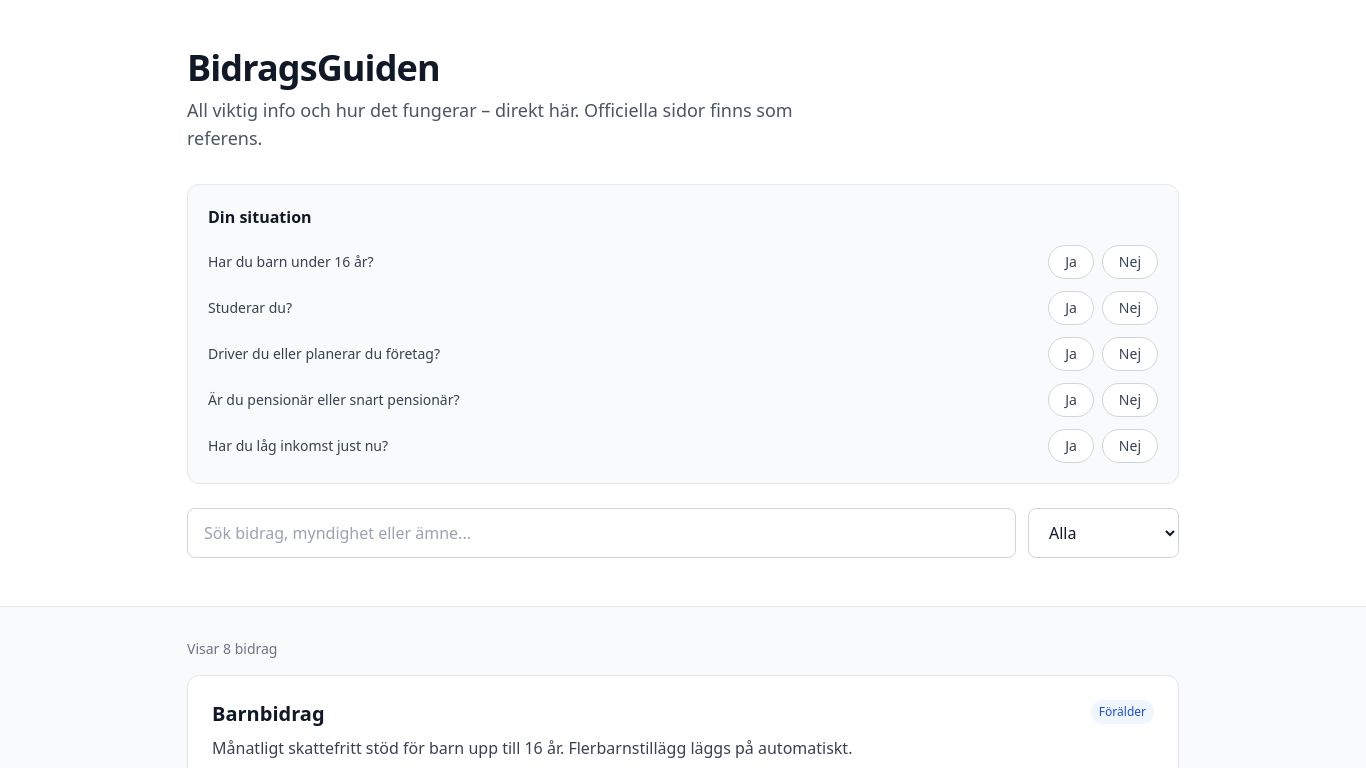
it: Home page › filters by situation
Click the button "Ja" in the row of "Har du barn under 16 år?": point(1071, 262) [1048,245,1094,279]
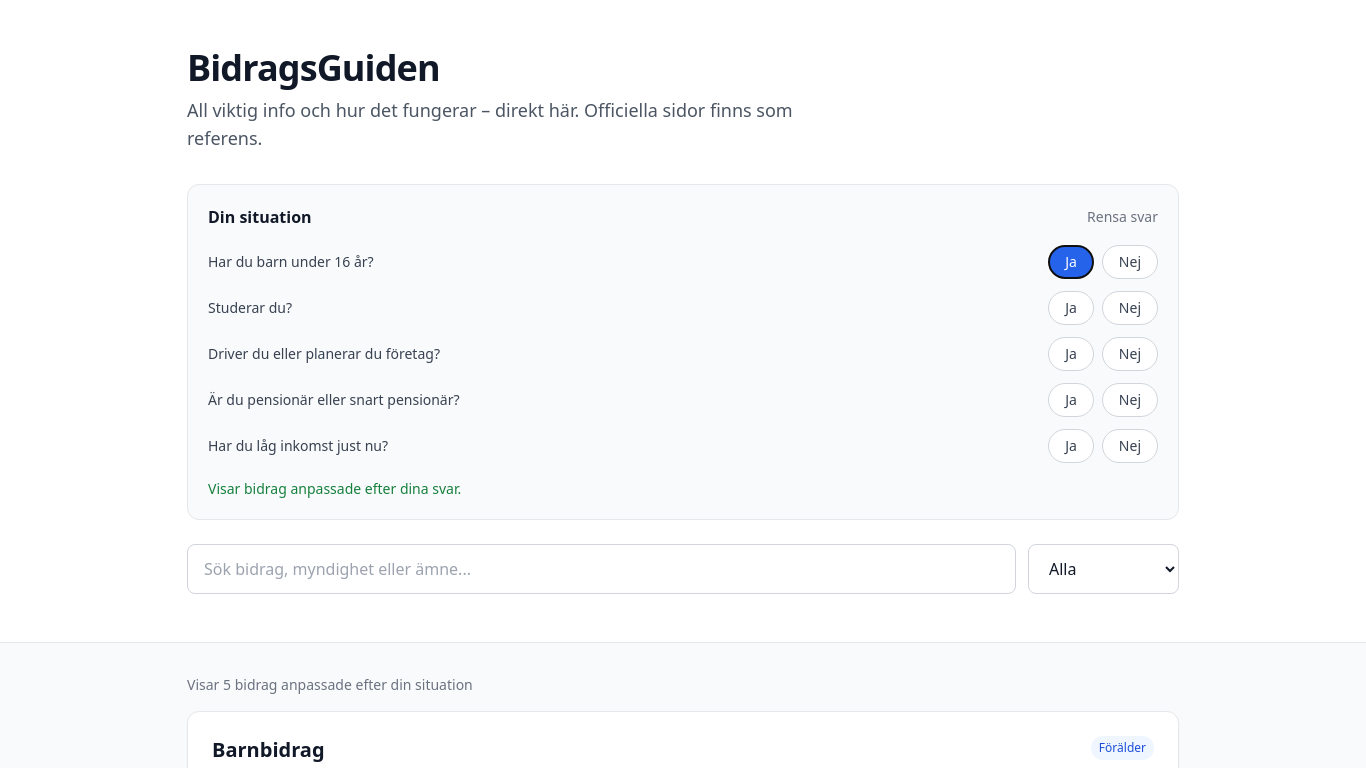
Now the text "Visar 5 bidrag anpassade efter din situation" is shown, box [187,675,473,694]
